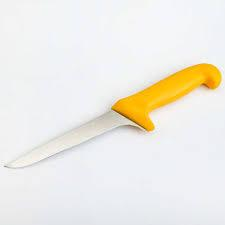Knife: (2, 62, 222, 169)
